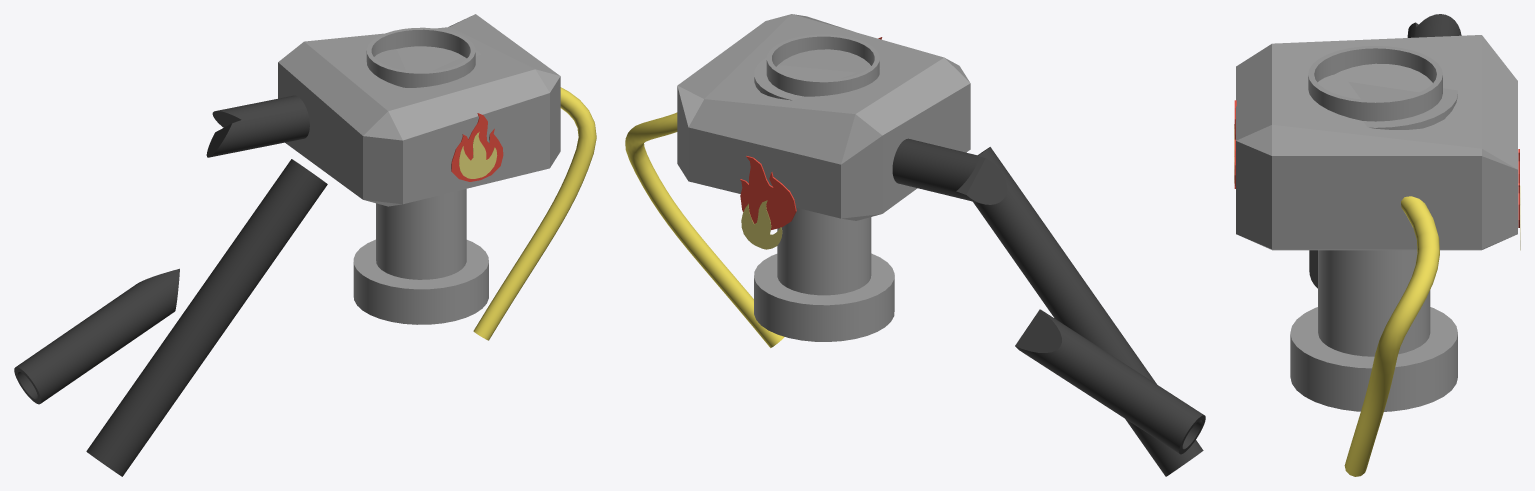
Rendered from tile_furnace (1).fbx.
The picture shows the model from 3 angles, left to right: view 1: azimuth 30°, elevation 25°; view 2: azimuth 150°, elevation 25°; view 3: azimuth 270°, elevation 25°; orthographic projection. The views are drawn at different scales.
Visible parts, largest first — view 1: Cube, Cylinder.001, Cylinder, Cylinder.002, BezierCurve, Circle, Cylinder.003, Plane, Plane.001; view 2: Cube, Cylinder, Cylinder.001, Cylinder.002, BezierCurve, Circle, Cylinder.003, Plane.002, Plane.003; view 3: Cube, Cylinder, Circle, BezierCurve, Cylinder.003.
Part boxes in pixels (x1,y1,x2,y2): Cube: (278,14,560,206); Cylinder.001: (86,159,327,476); Cylinder: (353,189,488,324); Cylinder.002: (14,268,179,404); BezierCurve: (473,87,596,340); Circle: (366,27,481,89); Cylinder.003: (206,95,309,157); Plane: (451,113,503,181); Plane.001: (459,132,497,178); Cube: (677,14,970,220); Cylinder: (754,207,894,341); Cylinder.001: (973,147,1203,476); Cylinder.002: (1015,309,1205,454); BezierCurve: (625,112,784,347); Circle: (754,34,881,100); Cylinder.003: (892,138,1006,204); Plane.002: (740,156,796,229); Plane.003: (741,200,782,249); Cube: (1236,35,1517,250); Cylinder: (1290,250,1457,411); Circle: (1308,46,1457,129); BezierCurve: (1344,196,1439,476); Cylinder.003: (1407,14,1461,37).
Size of the model in its own units: 569 by 323 by 203.
